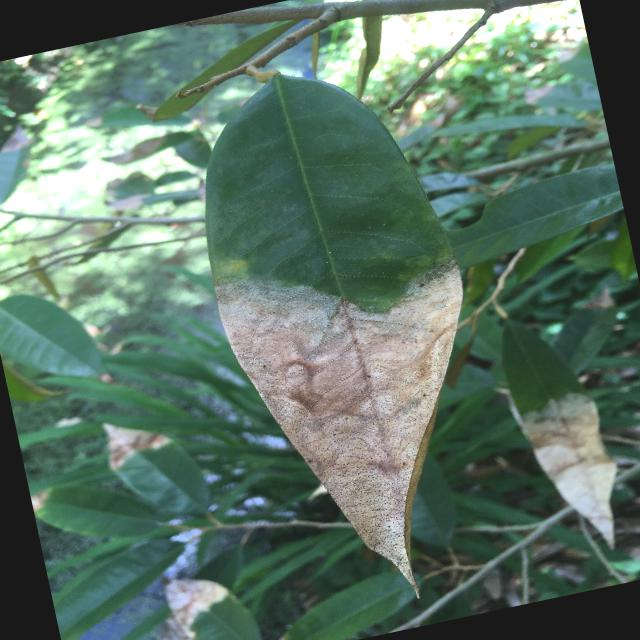Leaf Blight: (159, 30, 536, 637)
